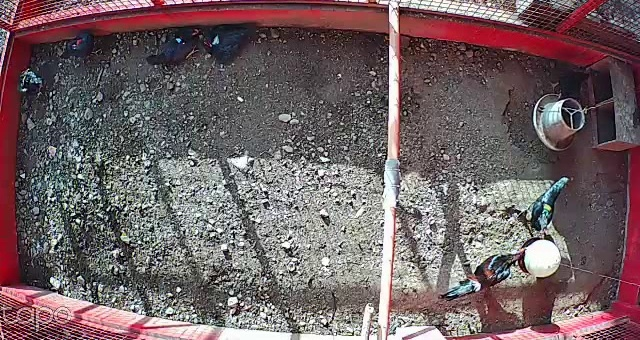Chicken: (142, 20, 213, 67), (203, 19, 259, 65), (15, 68, 54, 113), (58, 32, 104, 64)
Saddle_Color_Blue: (174, 35, 186, 45)
Saddle_Color_Red: (76, 39, 82, 45)
Saddle_Color_YellowGreen: (542, 205, 554, 218)
